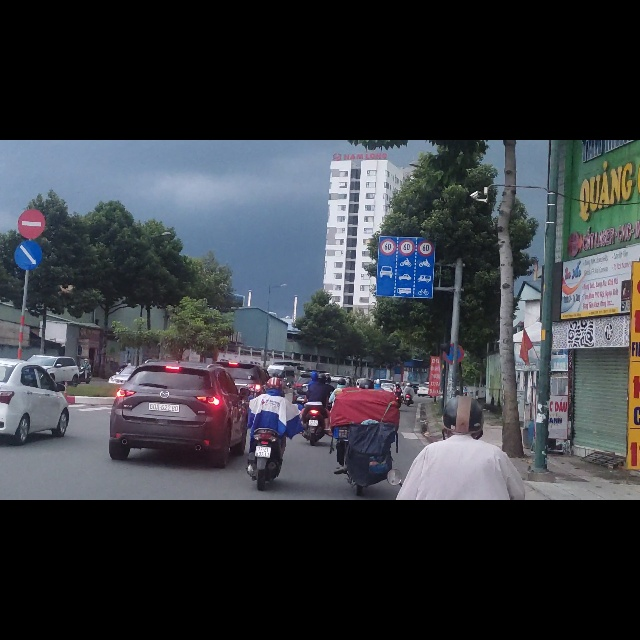bien_cam: (376, 207, 433, 282), (14, 178, 43, 231), (18, 123, 45, 175), (380, 175, 396, 205), (399, 176, 415, 206), (418, 176, 434, 206)
